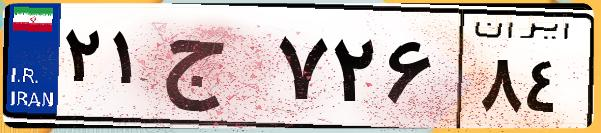1: (110, 28, 158, 98)
2: (330, 28, 385, 110), (57, 26, 110, 100)
4: (525, 38, 570, 115)
6: (385, 28, 445, 110)
7: (270, 28, 330, 110)
8: (475, 38, 525, 113)
ج: (158, 20, 270, 120)
